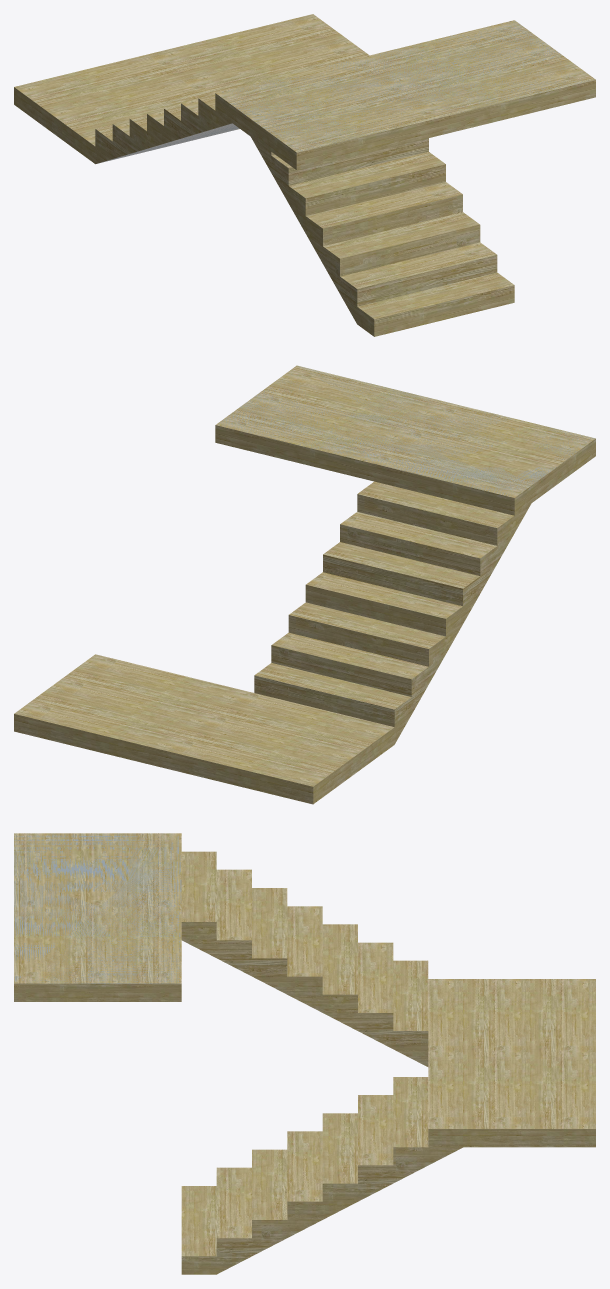
The model's file is escada.dae.
3 views of the same model, one above another, from view 1: azimuth 30°, elevation 25°; view 2: azimuth 150°, elevation 25°; view 3: azimuth 270°, elevation 25° (orthographic). The views are drawn at different scales.
Parts seen in each view (by area): view 1: Stairs_3 (×3); view 2: Stairs_3 (×2); view 3: Stairs_3 (×2).
Boxes of the visible parts, left/top/right/bottom form: Stairs_3 (×3): left=14, top=14, right=595, bottom=336; Stairs_3 (×2): left=14, top=365, right=595, bottom=804; Stairs_3 (×2): left=14, top=833, right=595, bottom=1274.
Size of the model in its own units: 126 by 206 by 114.
Materials: 3 (2 with a texture image).
